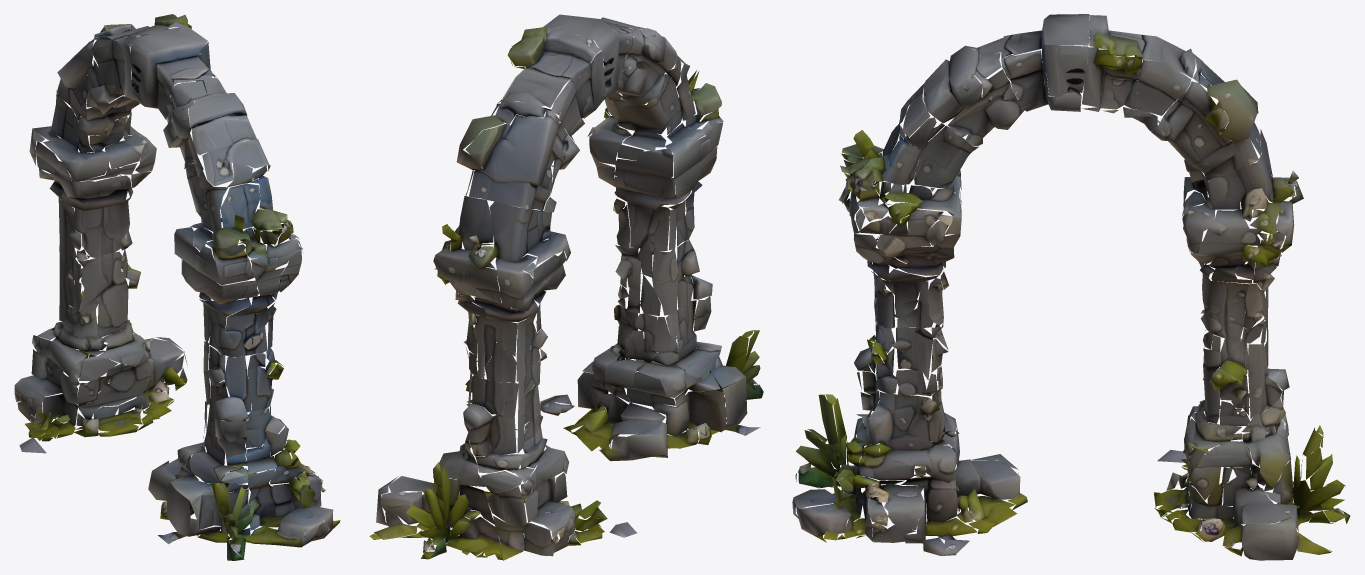
Rendered from ruina-submersa.glb.
3 renders of one model, left to right at view 1: azimuth 30°, elevation 25°; view 2: azimuth 150°, elevation 25°; view 3: azimuth 270°, elevation 25°, orthographic. The views are drawn at different scales.
Visible parts, largest first — view 1: tripo_node_da3a2049-a827-4b7e-a836-90ad7532468a; view 2: tripo_node_da3a2049-a827-4b7e-a836-90ad7532468a; view 3: tripo_node_da3a2049-a827-4b7e-a836-90ad7532468a.
Part boxes in pixels (bbox=[...]): tripo_node_da3a2049-a827-4b7e-a836-90ad7532468a: bbox=[14, 14, 340, 560]; tripo_node_da3a2049-a827-4b7e-a836-90ad7532468a: bbox=[369, 14, 763, 560]; tripo_node_da3a2049-a827-4b7e-a836-90ad7532468a: bbox=[792, 14, 1350, 560].
Size of the model in its own units: 0.463 by 0.9631 by 0.9988.
1 material, 1 textured.
